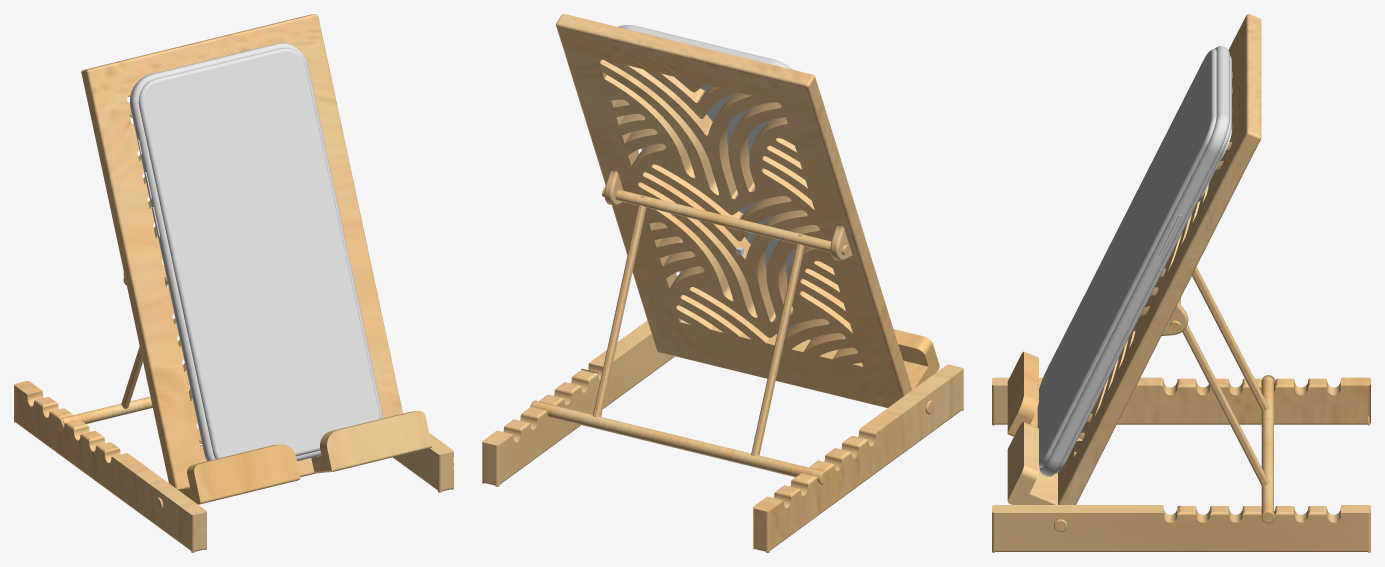
3 views of the same model, side by side, from view 1: azimuth 30°, elevation 25°; view 2: azimuth 150°, elevation 25°; view 3: azimuth 270°, elevation 25° (orthographic). The views are drawn at different scales.
Visible parts, largest first — view 1: Apoya Celular en OBJ; view 2: Apoya Celular en OBJ; view 3: Apoya Celular en OBJ.
Boxes of the visible parts, x1,y1,x2,y2 form: Apoya Celular en OBJ: (14,14,453,552); Apoya Celular en OBJ: (482,14,963,552); Apoya Celular en OBJ: (992,14,1370,552).
Size of the model in its own units: 118 by 165 by 138.
6 materials, 3 textured.
